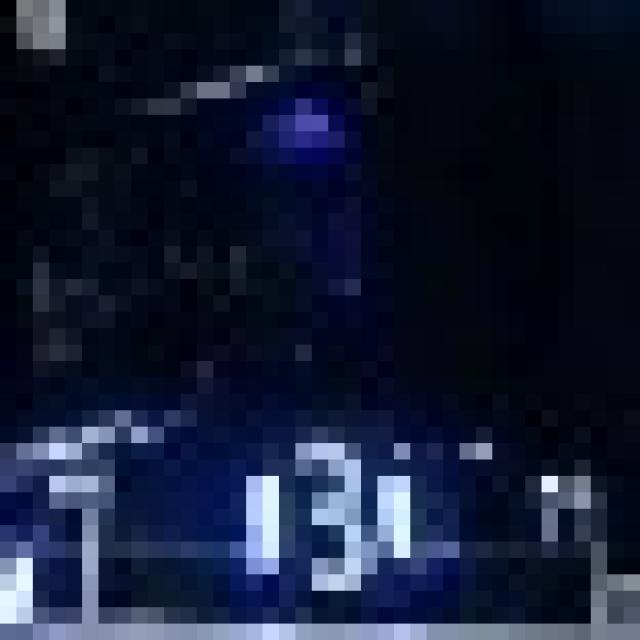B3: (213, 427, 394, 590)
